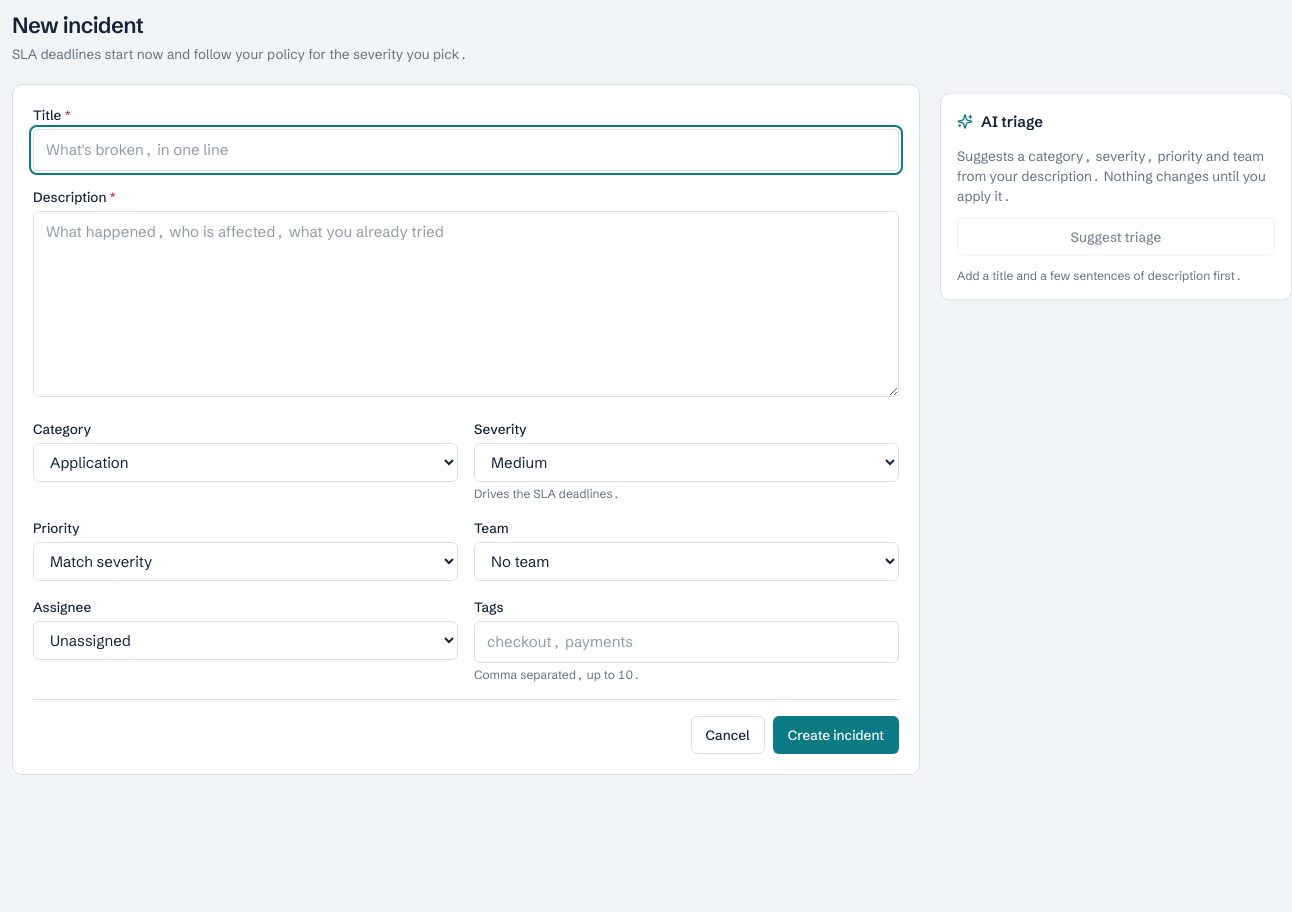
Test: IncidentFormPage › keeps triage disabled until there is enough to analyze
Expected: the button "Suggest triage" is disabled, [957,217,1275,255]
In the field labelled "Title *": (466, 150) [33,128,899,170], type "Checkout failing"
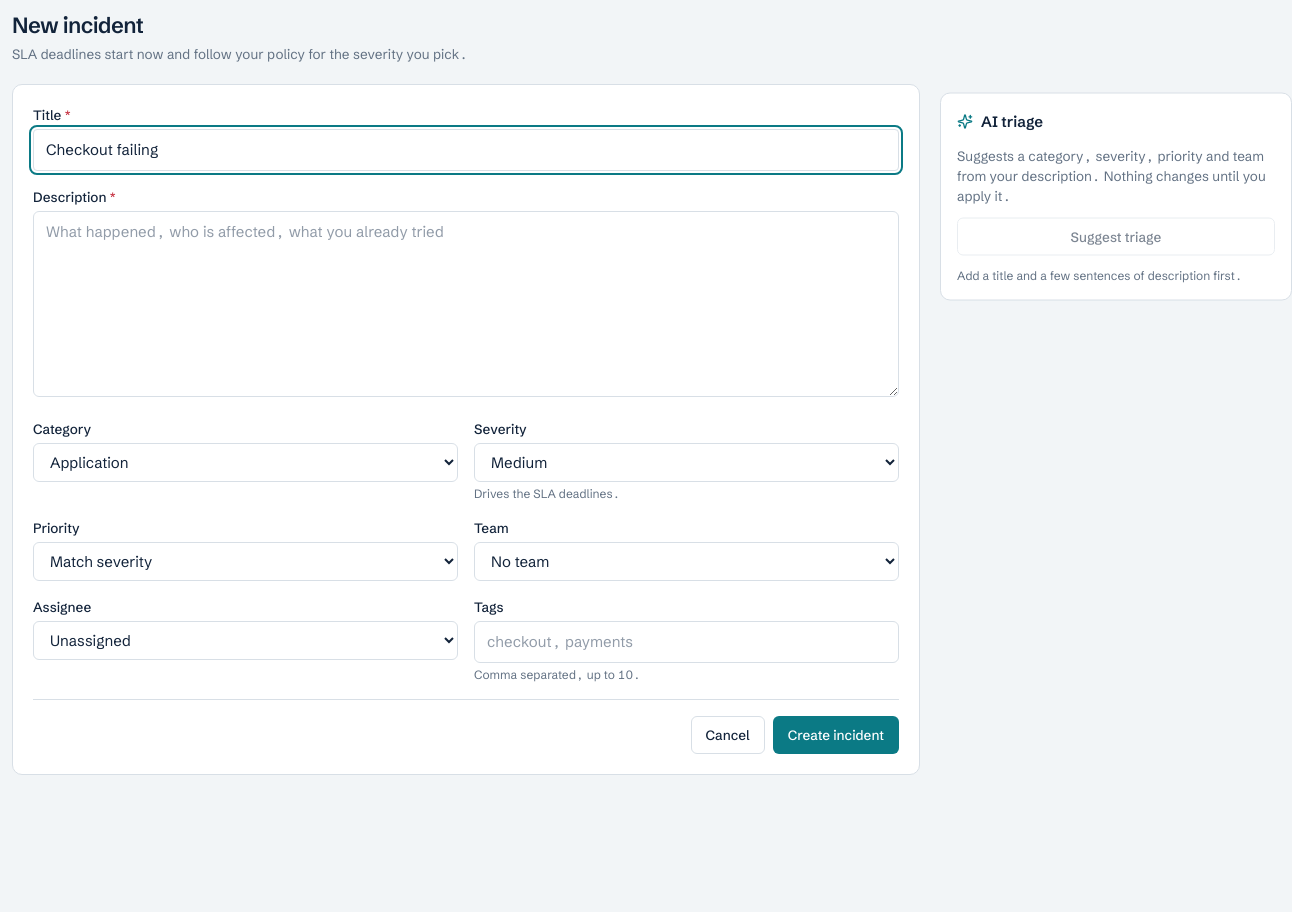
In the text box labelled "Description *": (466, 304) [33,210,899,396], type "Customers cannot pay since the last deploy."
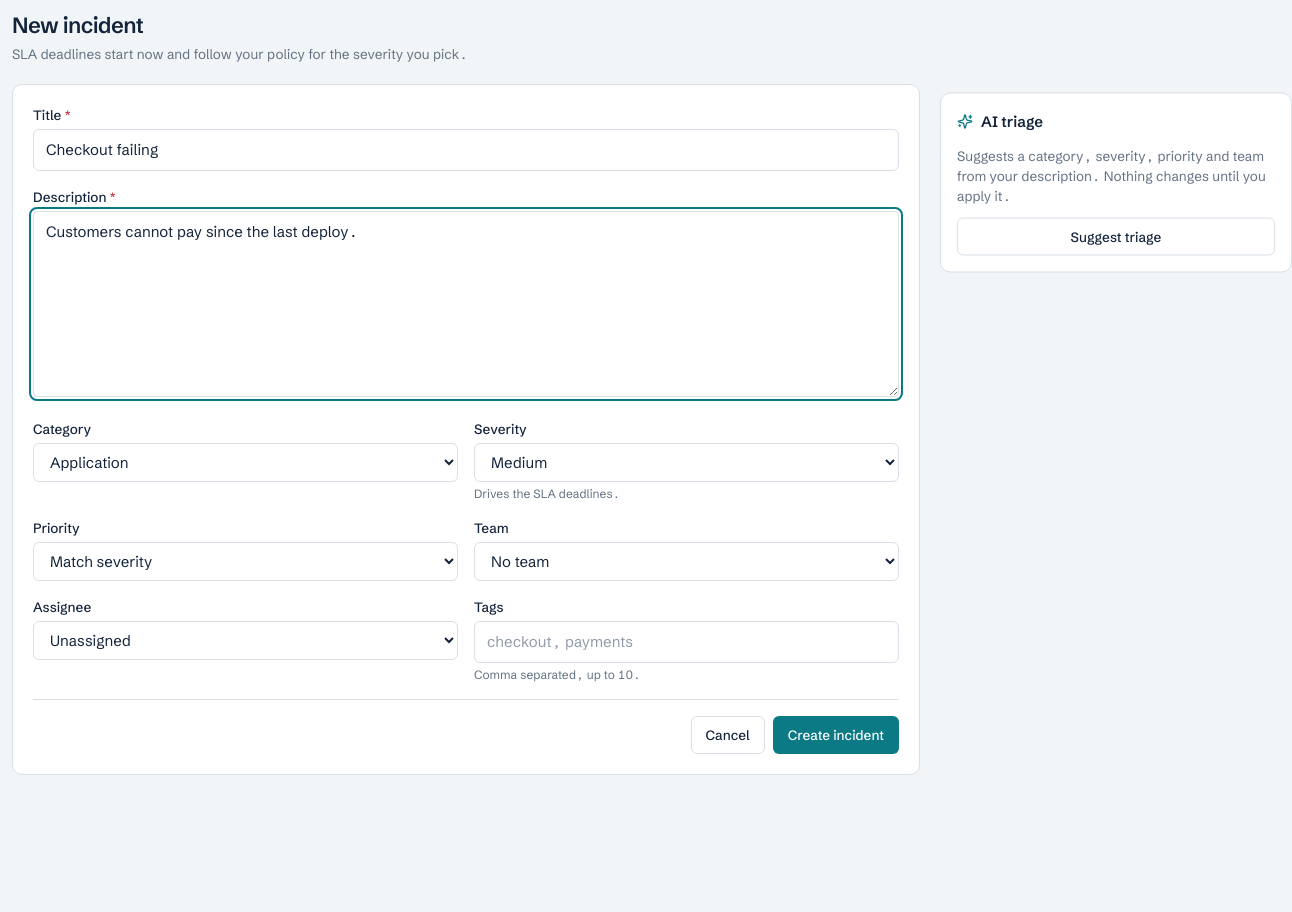
Expected: the button "Suggest triage" is enabled, [957,217,1275,255]
